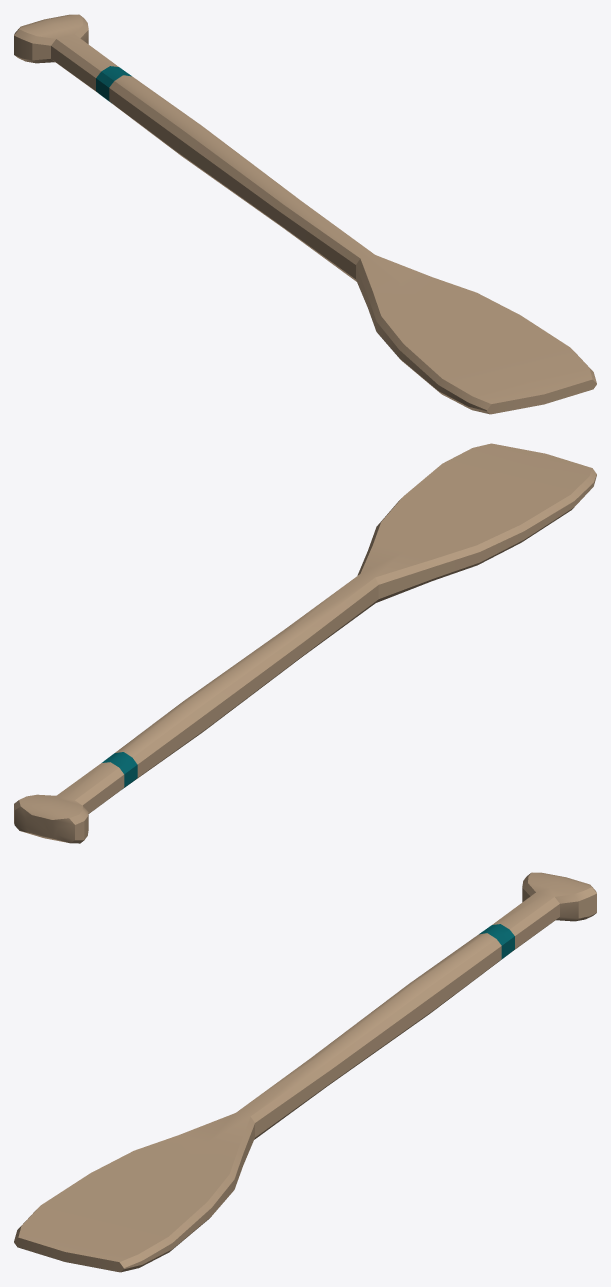
The model's file is Oar_Colored.fbx.
3 renders of one model, top to bottom at view 1: azimuth 30°, elevation 25°; view 2: azimuth 150°, elevation 25°; view 3: azimuth 330°, elevation 25°, orthographic.
Visible parts, largest first — view 1: pCube1; view 2: pCube1; view 3: pCube1.
Boxes of the visible parts, box(x1,y1,x2,y2) form: pCube1: box(14, 14, 596, 414); pCube1: box(14, 443, 596, 843); pCube1: box(14, 872, 596, 1272).
Size of the model in its own units: 2.84 by 0.7357 by 18.15.
